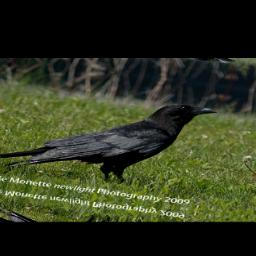Crow: (0, 82, 221, 195)
